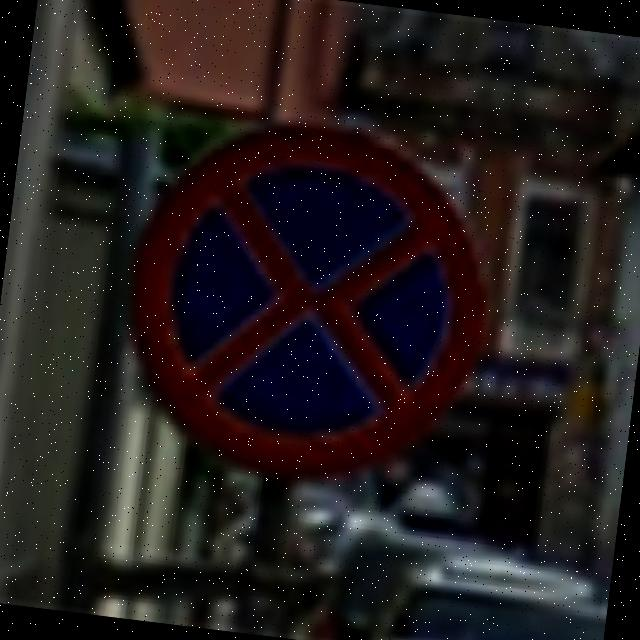Zakaz zatrzymywania sie: (99, 92, 517, 508)
